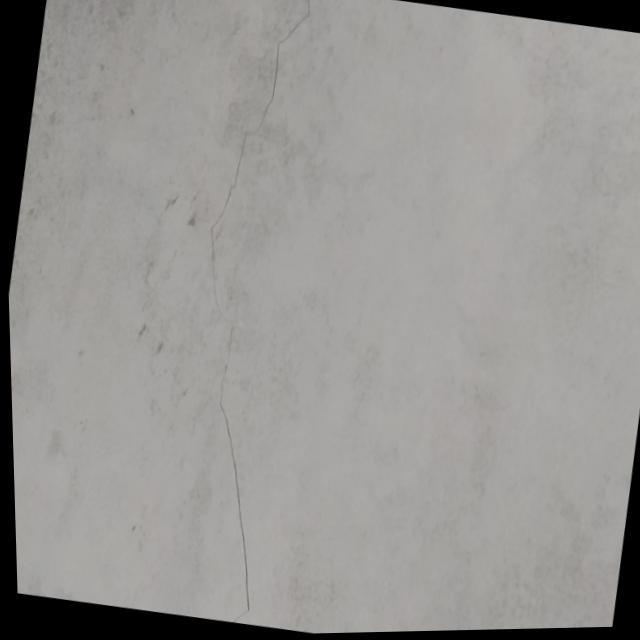Crack: (205, 4, 312, 614)
